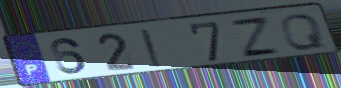2: (97, 32, 138, 72)
6: (49, 36, 90, 77)
7: (187, 20, 222, 63)
I: (138, 27, 166, 69)
Q: (278, 12, 329, 51)
Z: (227, 16, 284, 58)
